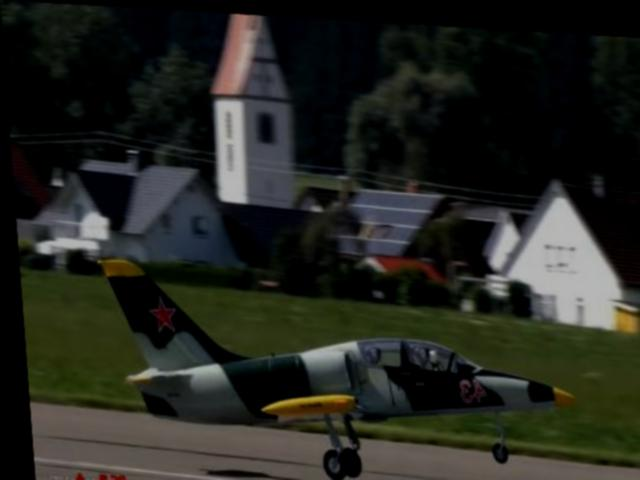uav: (92, 252, 576, 480)
